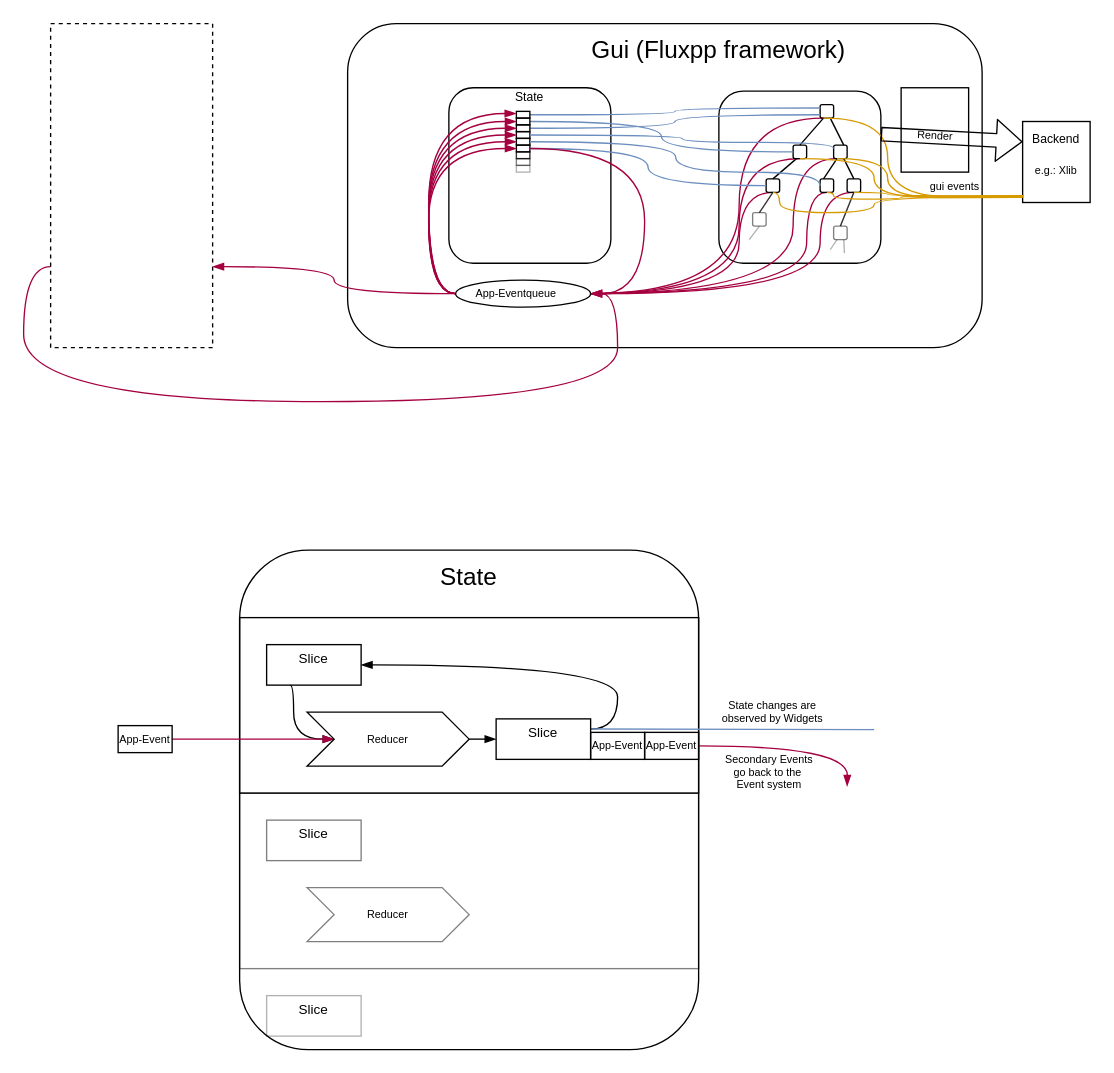
This 1114x1073 diagram has some shape labels left out. The shapes that lost their labels are listed below. From the top down, each one's centre as x and y in pixels, then its label:
the point at 934,129: Cache
the point at 131,185: Application
the point at 799,176: Widget Tree
